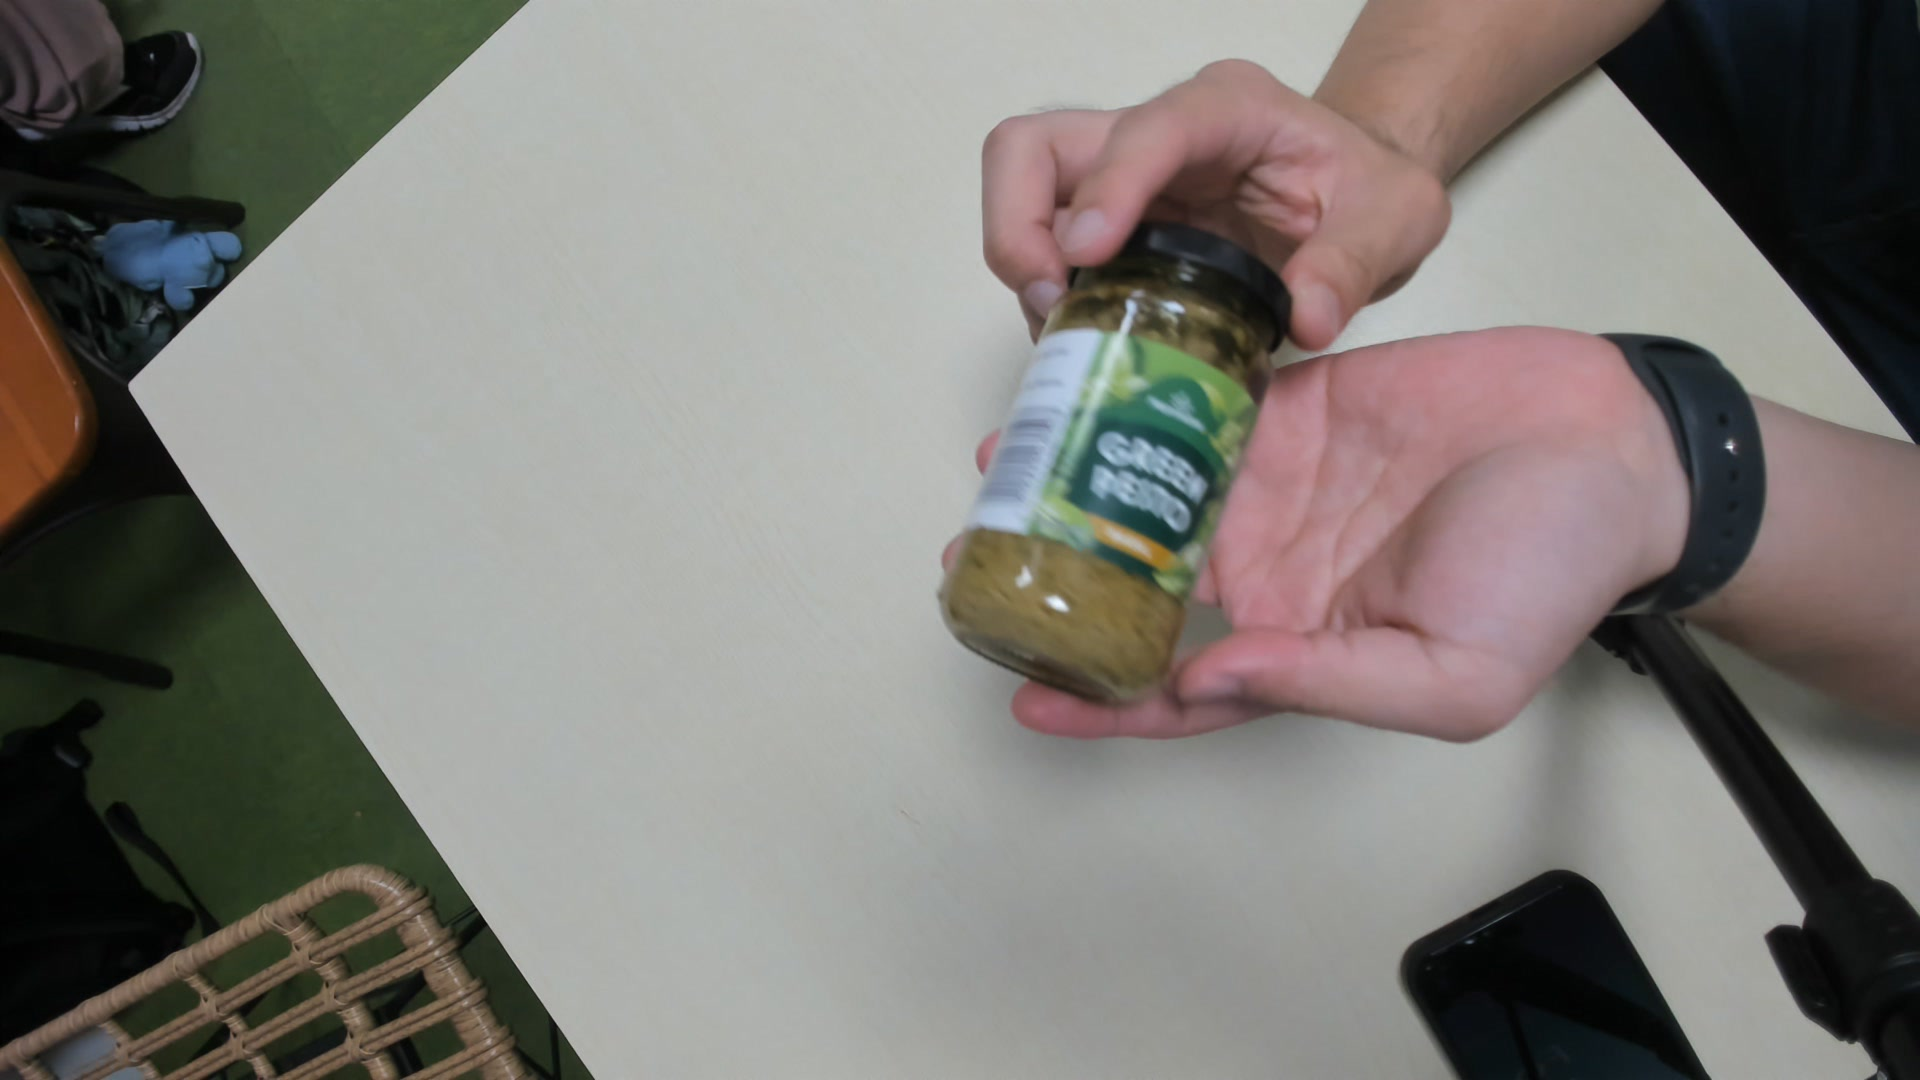OtherSauceDressing_100-199g_NonHalal_NonHealthy: (942, 215, 1291, 703)
